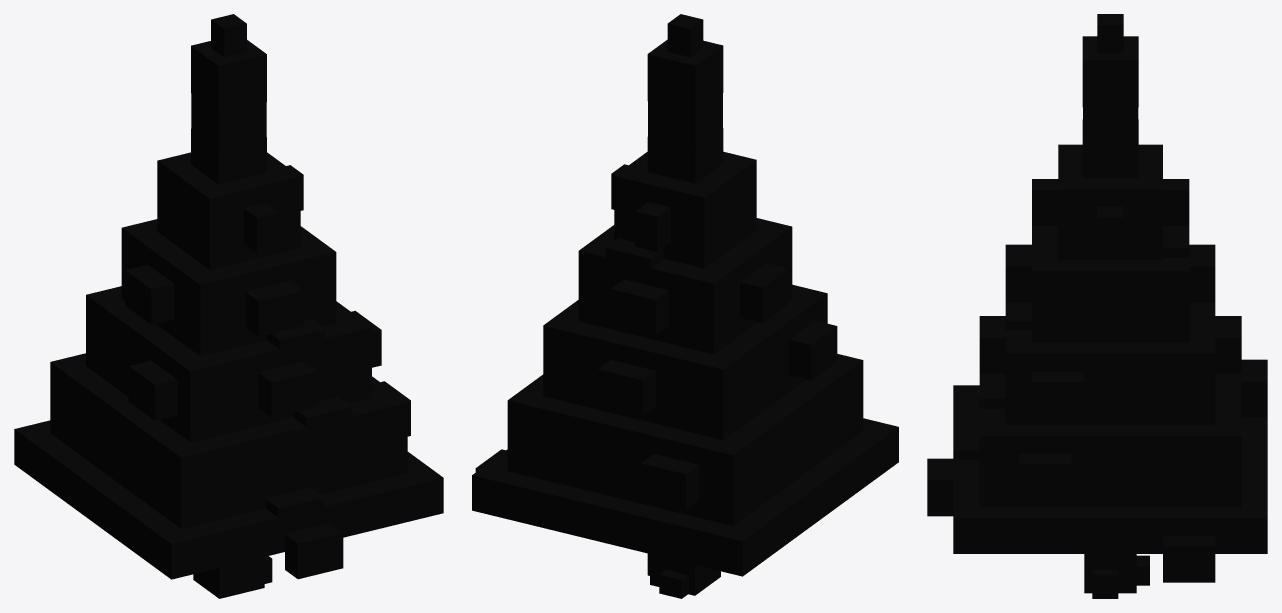
File: CharredPine.obj
The picture shows the model from 3 angles, left to right: view 1: azimuth 30°, elevation 25°; view 2: azimuth 150°, elevation 25°; view 3: azimuth 270°, elevation 25°; orthographic projection.
Visible parts, largest first — view 1: CharredPine; view 2: CharredPine; view 3: CharredPine.
Boxes of the visible parts, bbox=[...] form: CharredPine: bbox=[14, 14, 443, 598]; CharredPine: bbox=[472, 14, 898, 598]; CharredPine: bbox=[927, 14, 1267, 598].
Bounding box in the file's own units: 13 × 23.7 × 13.
